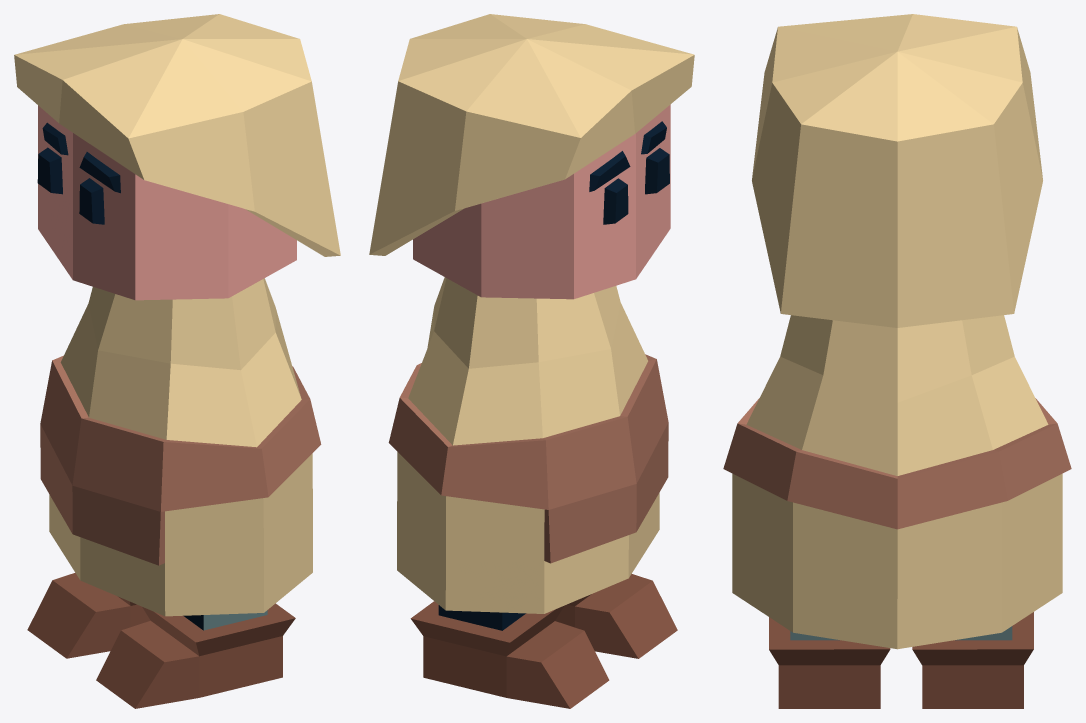
Rendered from SK_Miller.fbx.
3 views of the same model, side by side, from view 1: azimuth 30°, elevation 25°; view 2: azimuth 150°, elevation 25°; view 3: azimuth 270°, elevation 25° (orthographic). The views are drawn at different scales.
Parts seen in each view (by area): view 1: SK_Character.007; view 2: SK_Character.007; view 3: SK_Character.007.
Boxes of the visible parts, left/top/right/bottom form: SK_Character.007: left=14, top=14, right=340, bottom=708; SK_Character.007: left=369, top=14, right=694, bottom=708; SK_Character.007: left=723, top=14, right=1071, bottom=708.
Size of the model in its own units: 56.95 by 135 by 67.32.
